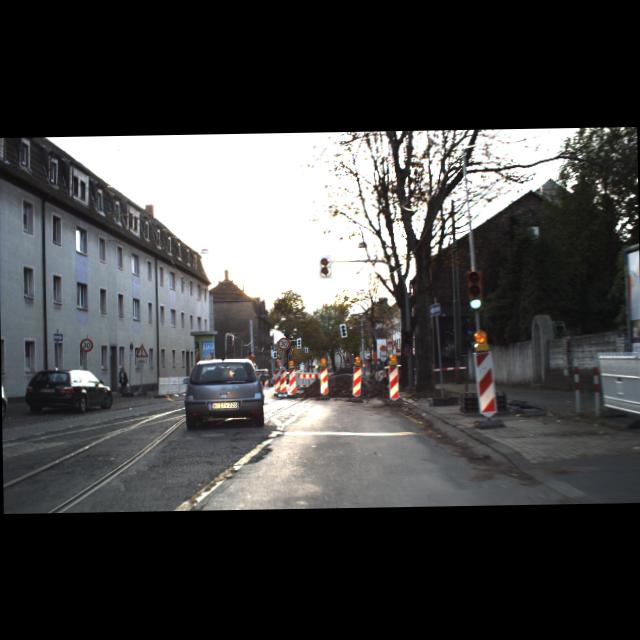danger: (135, 344, 148, 358)
prohibitory: (80, 338, 93, 352), (278, 338, 290, 350)
